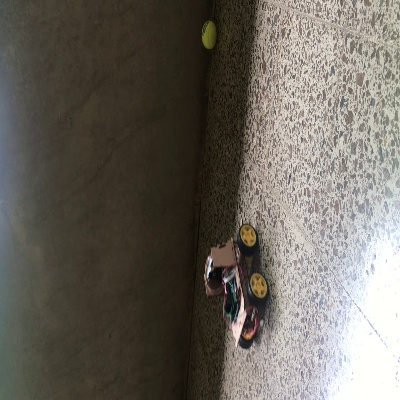Ball: (200, 22, 216, 48)
Robot: (202, 219, 269, 349)
